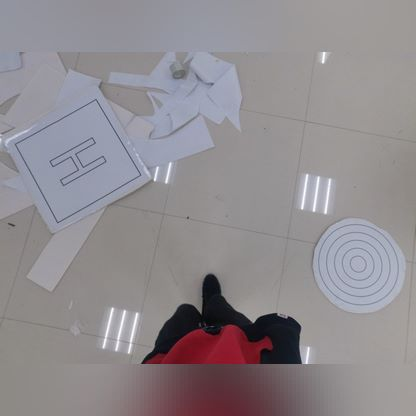H: (18, 118, 140, 202)
W: (314, 216, 407, 314)
